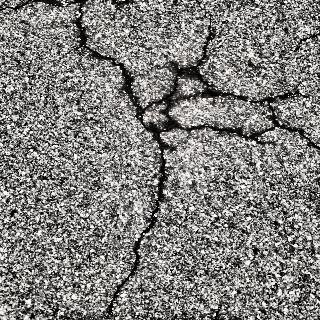alligator-crack: (127, 61, 316, 153)
crack: (59, 0, 169, 320)
